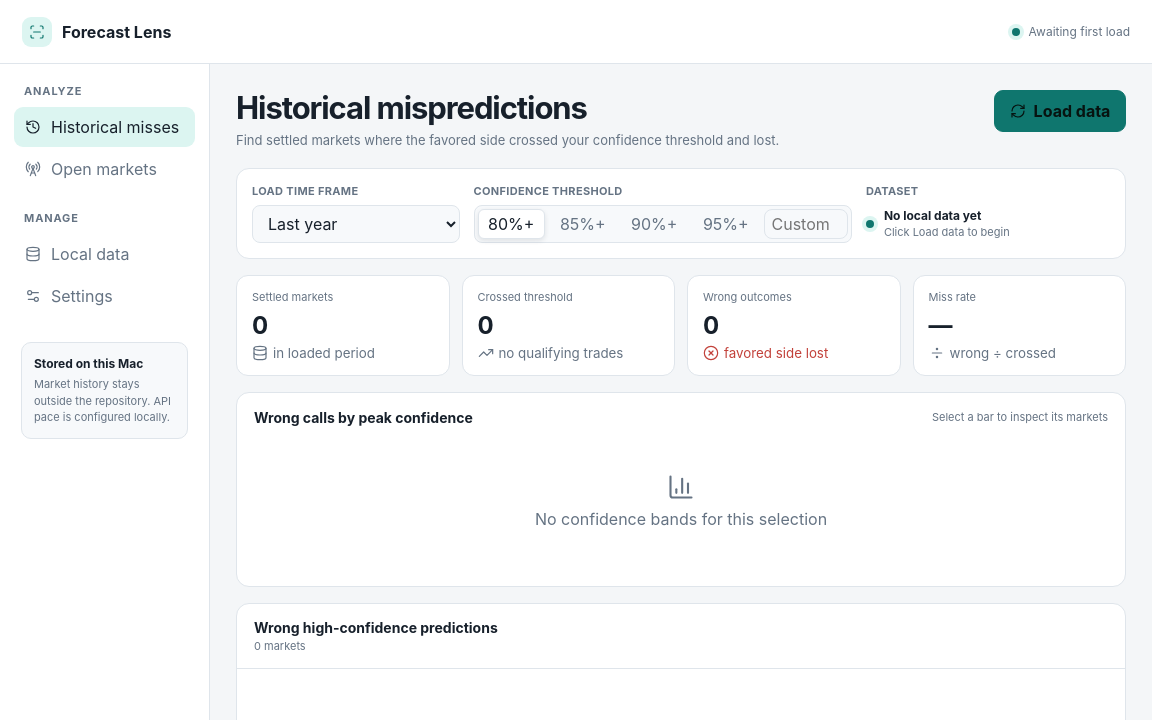
Test: historical dashboard › keeps cached results visible when open-market data is stale
The width and height of the screenshot is (1164, 720).
Click the button "Open markets" at (104, 169), box x1=14 y1=149 x2=195 y2=189
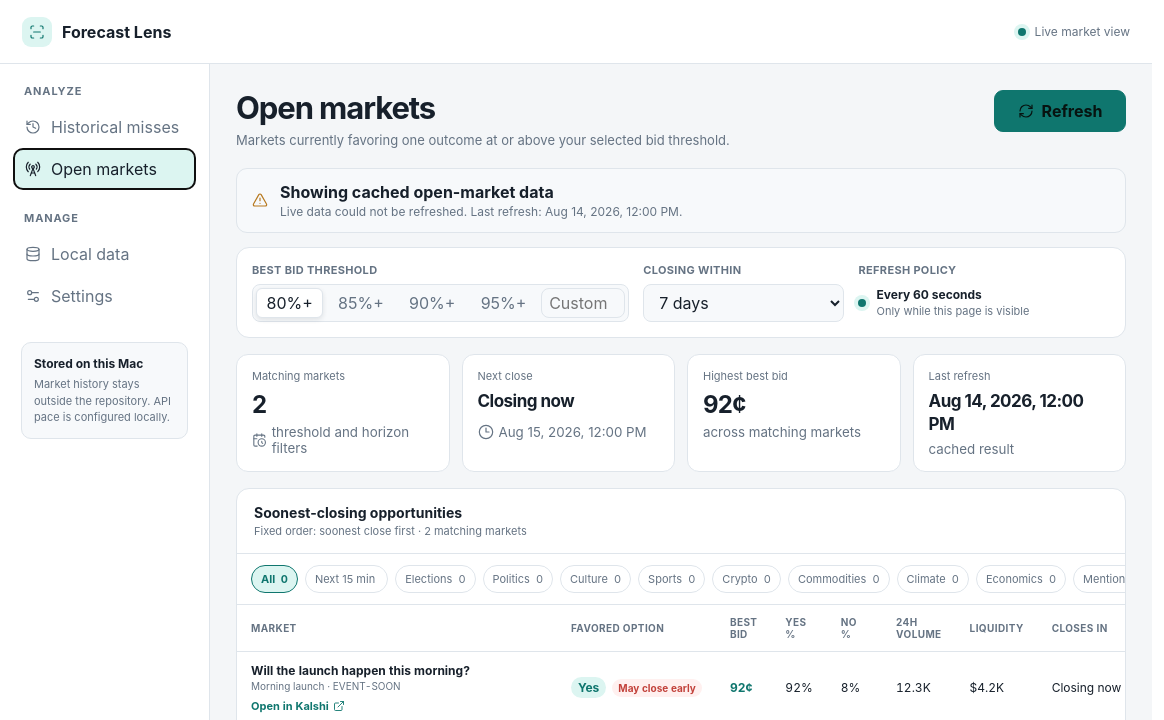
expect the text "Showing cached open-market data" is shown: met, box x1=280 y1=182 x2=554 y2=202
expect the text "Will the launch happen this morning?" is shown: met, box x1=251 y1=662 x2=470 y2=678
